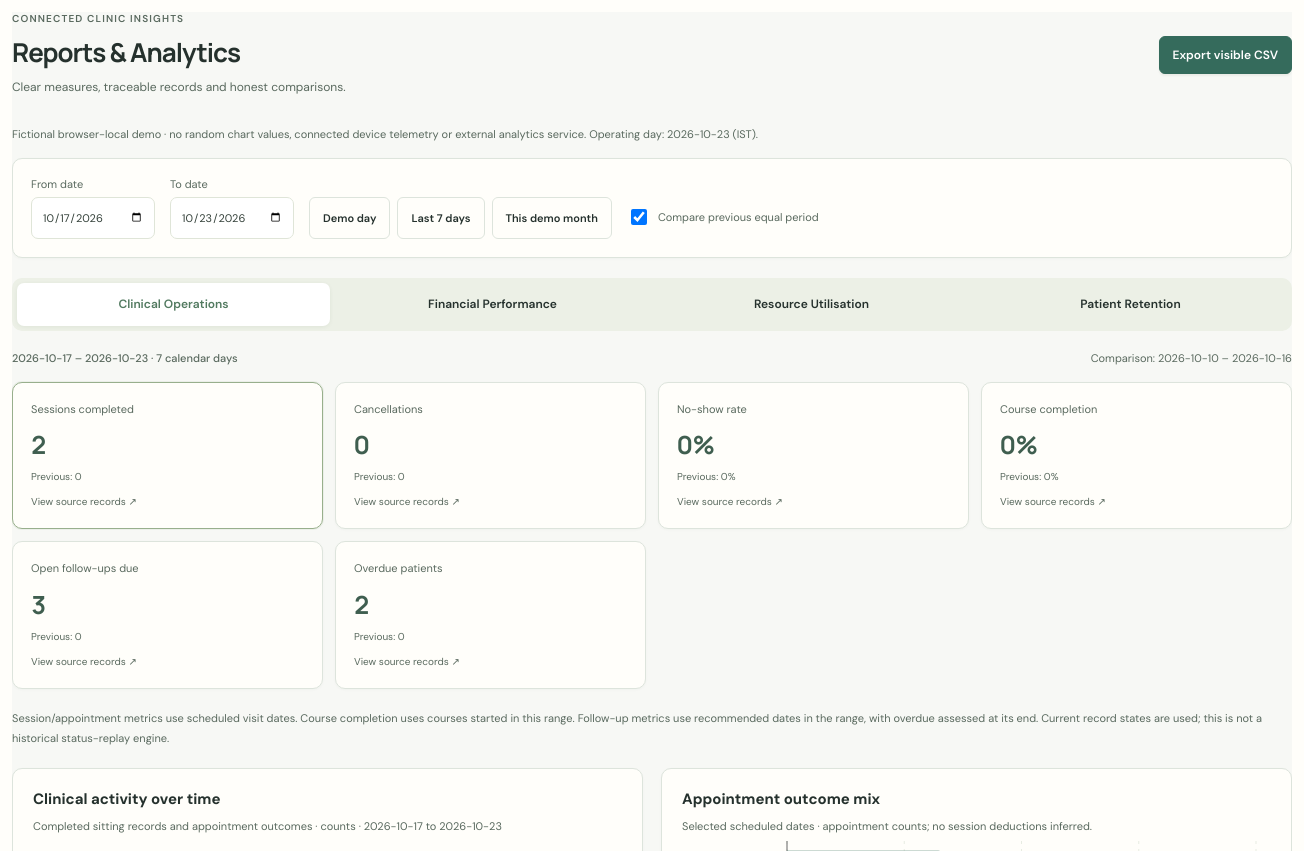
Test: analytics interactions › exports a CSV download for the visible category and preserves comparison controls
Click the button "Export visible CSV" at (1225, 55), box [1159,36,1292,74]
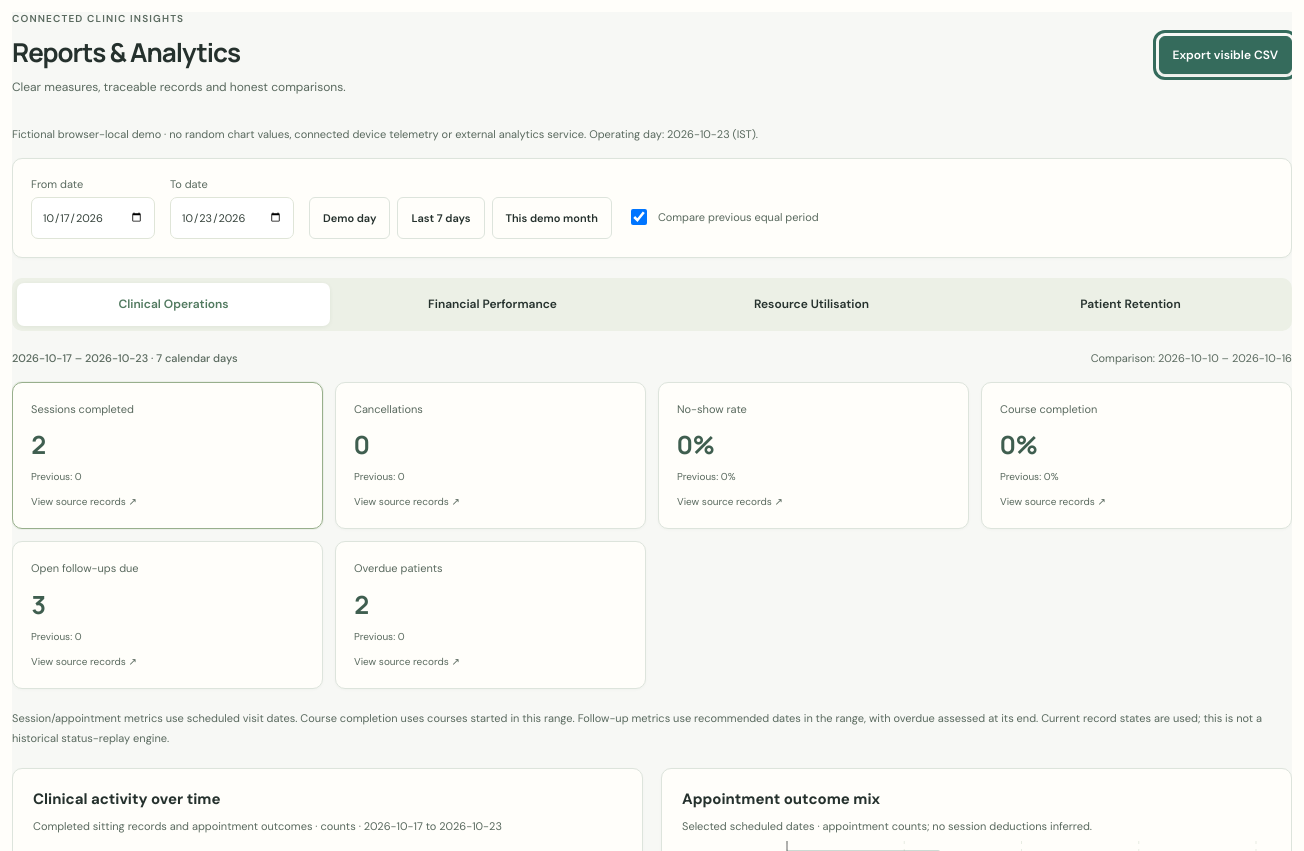
Check: the text "Comparison: 2026-10-10 – 2026-10-16" is shown, box [1091,351,1292,365]
Click the checkbox labelled "Compare previous equal period" at (639, 217), box [631,209,647,225]
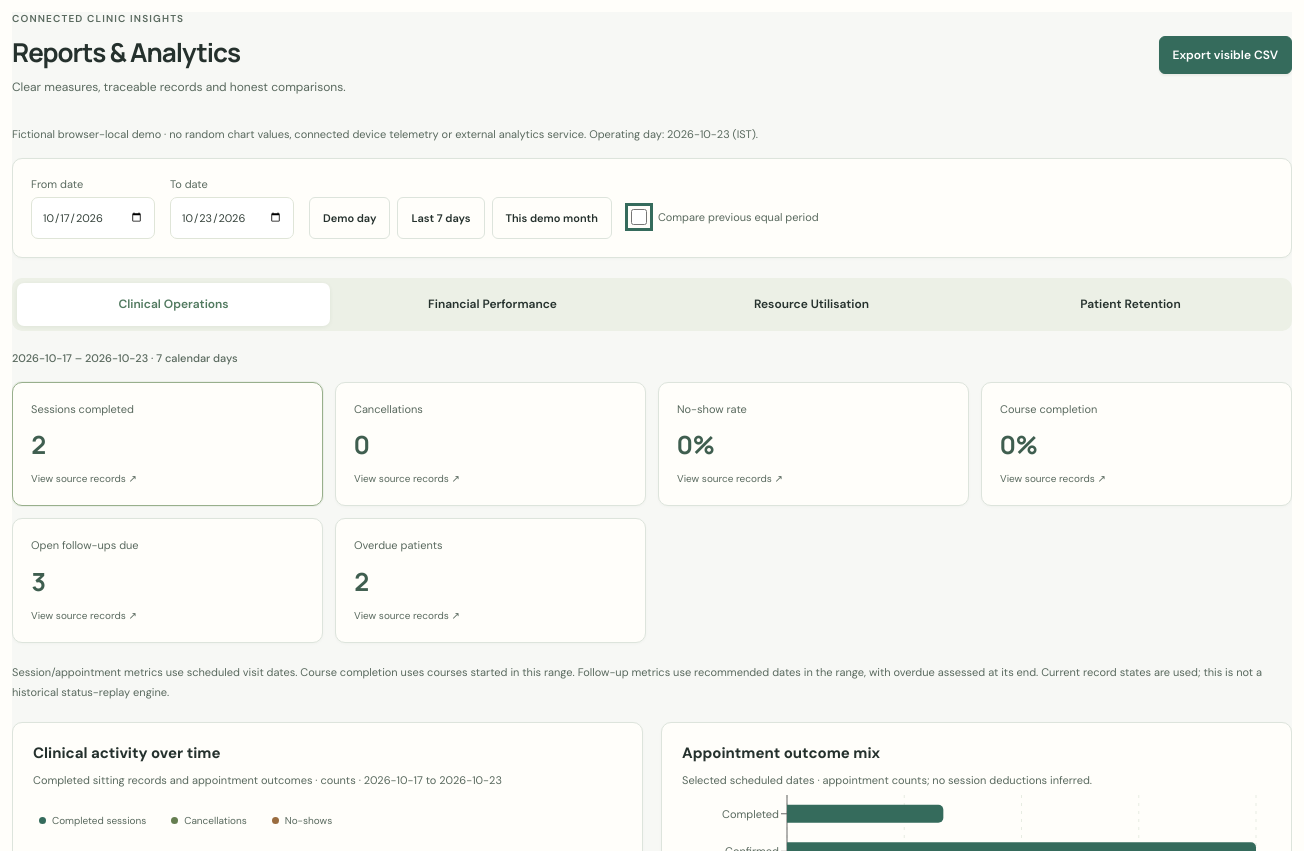
Check: the text "Comparison:" is gone
